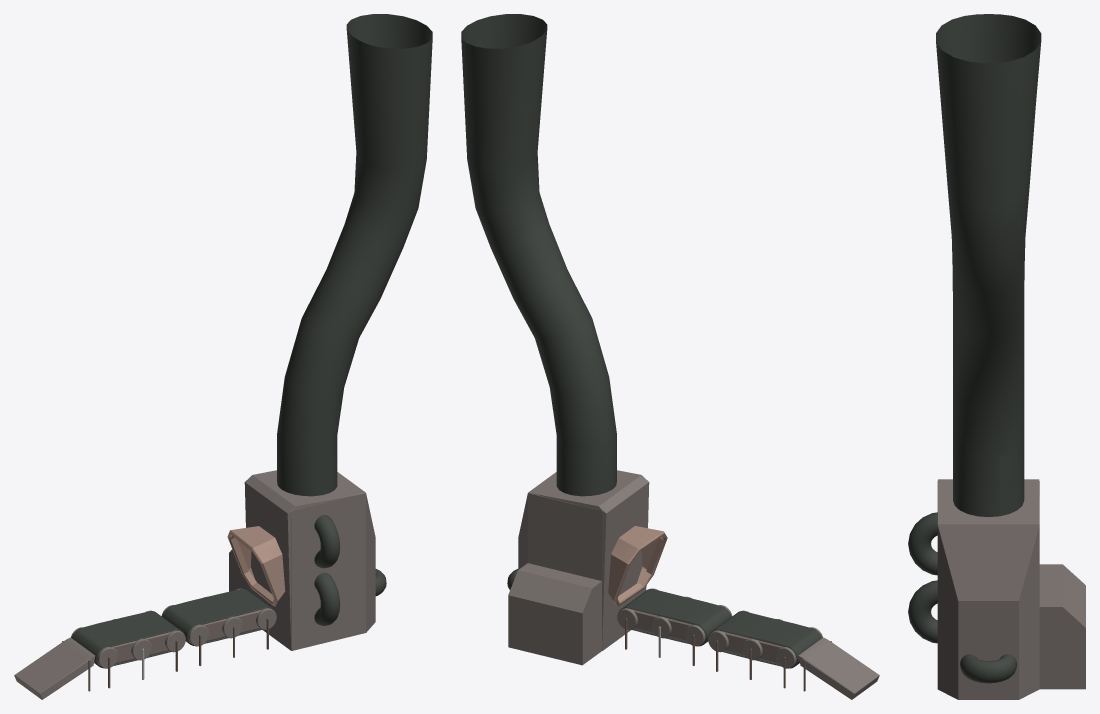
File: Machien PT.fbx
3 views of the same model, side by side, from view 1: azimuth 30°, elevation 25°; view 2: azimuth 150°, elevation 25°; view 3: azimuth 270°, elevation 25° (orthographic). The views are drawn at different scales.
Visible parts, largest first — view 1: machine_3:pCylinder1, machine_3:pCube4, machine_3:pCube3, machine_3:pCube5, machine_3:pasted__pasted__pPipe1, machine_3:pasted__pasted__pasted__pPipe1, machine_3:pasted__pTorus2, machine_3:pTorus2; view 2: machine_3:pCylinder1, machine_3:pCube4, machine_3:pCube3, machine_3:pCube5, machine_3:pasted__pasted__pPipe1, machine_3:pasted__pasted__pasted__pPipe1, machine_3:pasted__pasted__pCube2, machine_3:pasted__pasted__pasted__pCube2; view 3: machine_3:pCylinder1, machine_3:pCube4, machine_3:pasted__pTorus2, machine_3:pTorus2, machine_3:pTorus1.
Part boxes in pixels (x1,y1,x2,y2): machine_3:pCylinder1: (277,14,432,496); machine_3:pCube4: (229,470,375,650); machine_3:pCube3: (227,526,285,606); machine_3:pCube5: (14,637,95,699); machine_3:pasted__pasted__pPipe1: (162,588,274,645); machine_3:pasted__pasted__pasted__pPipe1: (71,610,183,668); machine_3:pasted__pTorus2: (314,572,340,625); machine_3:pTorus2: (314,515,340,568); machine_3:pCylinder1: (461,14,616,496); machine_3:pCube4: (508,470,649,665); machine_3:pCube3: (608,526,667,606); machine_3:pCube5: (798,637,879,699); machine_3:pasted__pasted__pPipe1: (619,588,731,646); machine_3:pasted__pasted__pasted__pPipe1: (710,610,822,668); machine_3:pasted__pasted__pCube2: (633,610,691,640); machine_3:pasted__pasted__pasted__pCube2: (724,632,782,663); machine_3:pCylinder1: (936,14,1041,517); machine_3:pCube4: (937,479,1085,699); machine_3:pasted__pTorus2: (908,580,937,643); machine_3:pTorus2: (908,512,937,575); machine_3:pTorus1: (960,654,1017,683).
Size of the model in its own units: 6.06 by 8.36 by 1.98.
